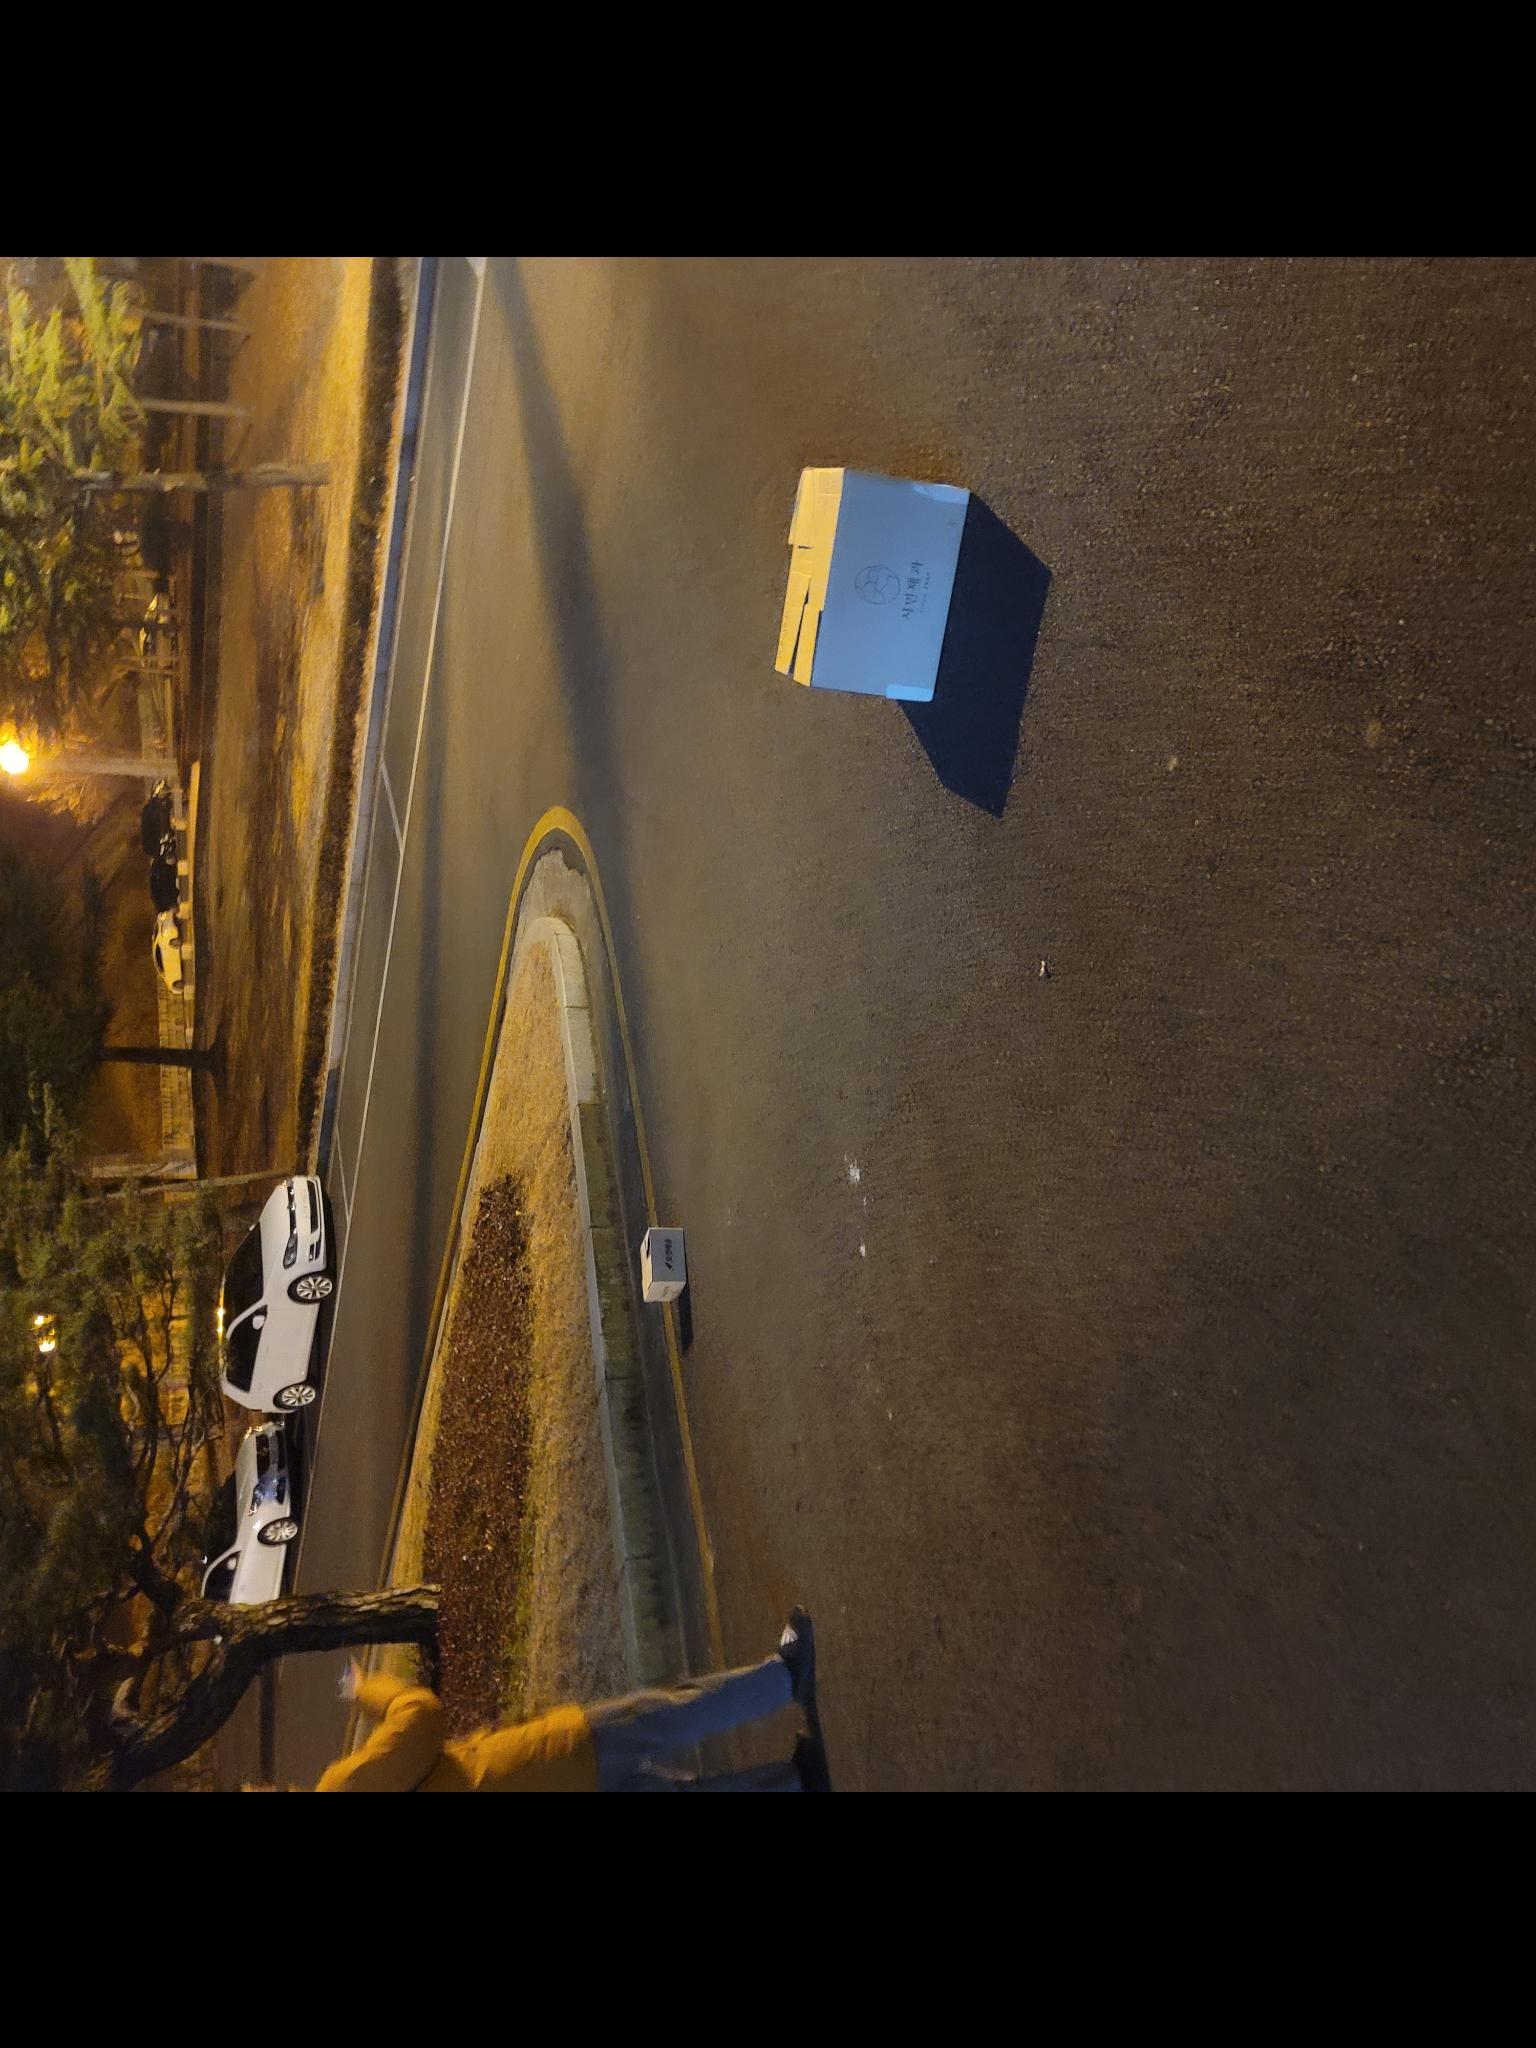Box: (753, 453, 983, 722), (620, 1234, 694, 1309)
